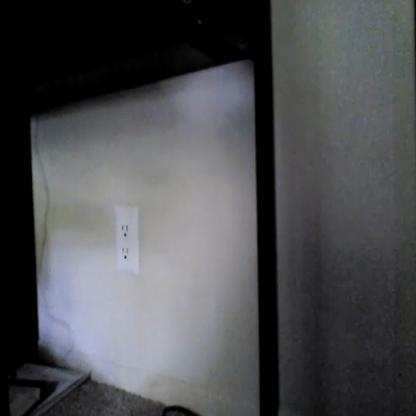OUTLET: (115, 204, 140, 274)
